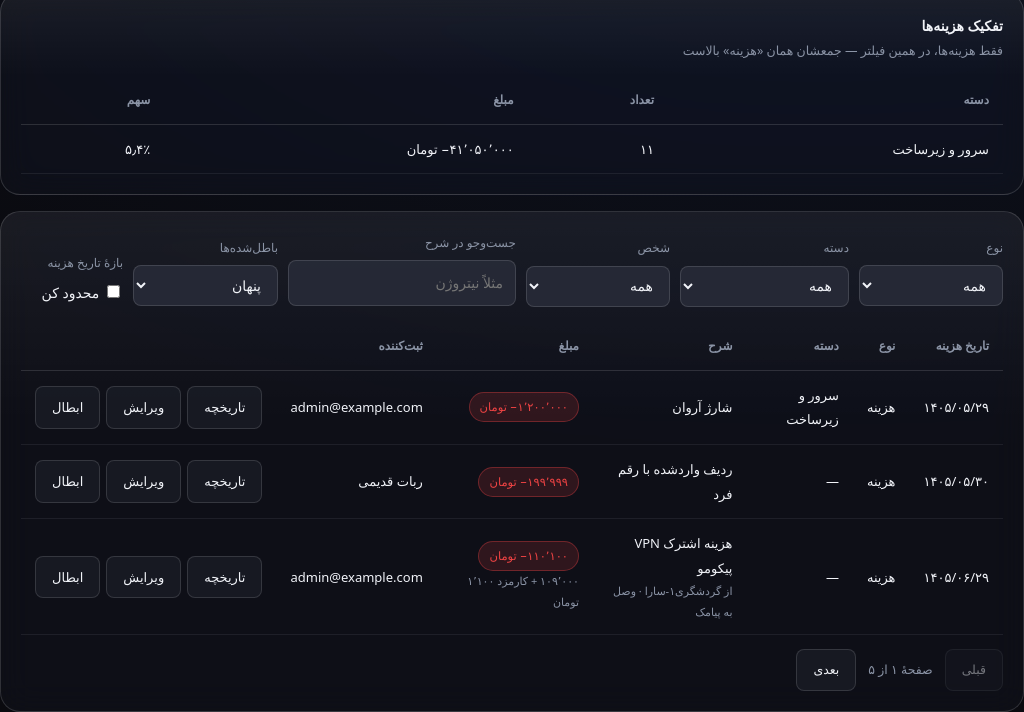
Scenario: an amount the operator did not touch › shows the exact Toman figure, fraction and all
(page scrolled)
Expected: the text "ردیف واردشده با رقم فرد" is shown, top-left (593, 444), bottom-right (746, 519)
Step 1. Click the button "ویرایش" in the row of "۱۴۰۵/۰۵/۳۰" → (144, 482), box top-left (106, 460), bottom-right (181, 503)
(page scrolled)
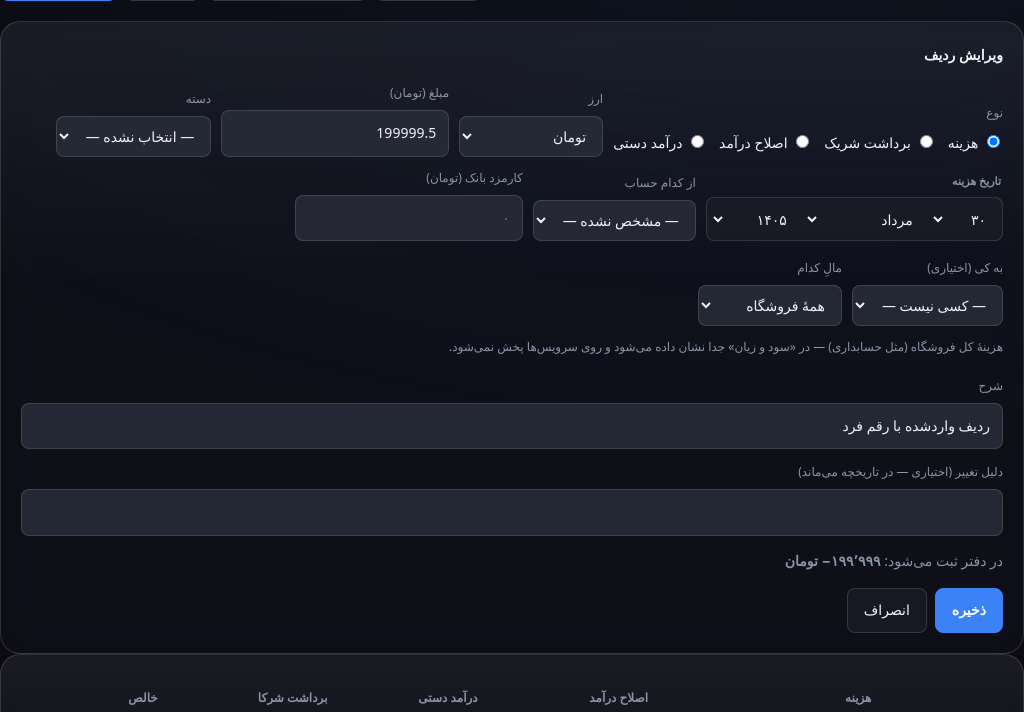
Result: the field labelled "مبلغ (تومان)" holds "199999.5" at top-left (221, 110), bottom-right (449, 157)
